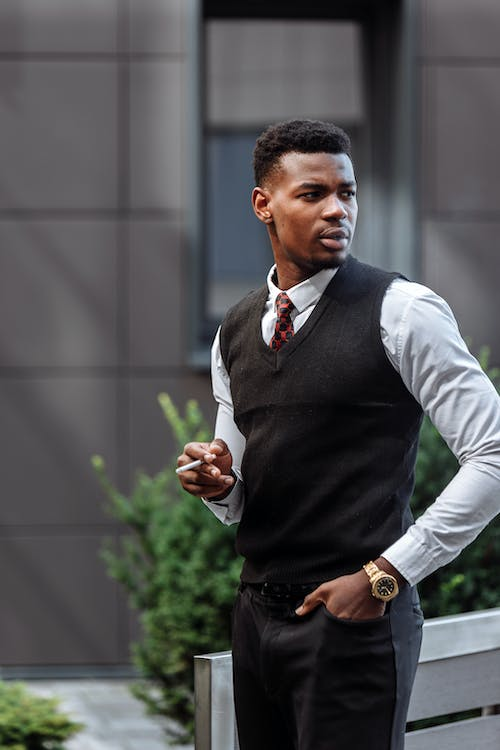cigarette: (174, 450, 218, 475)
